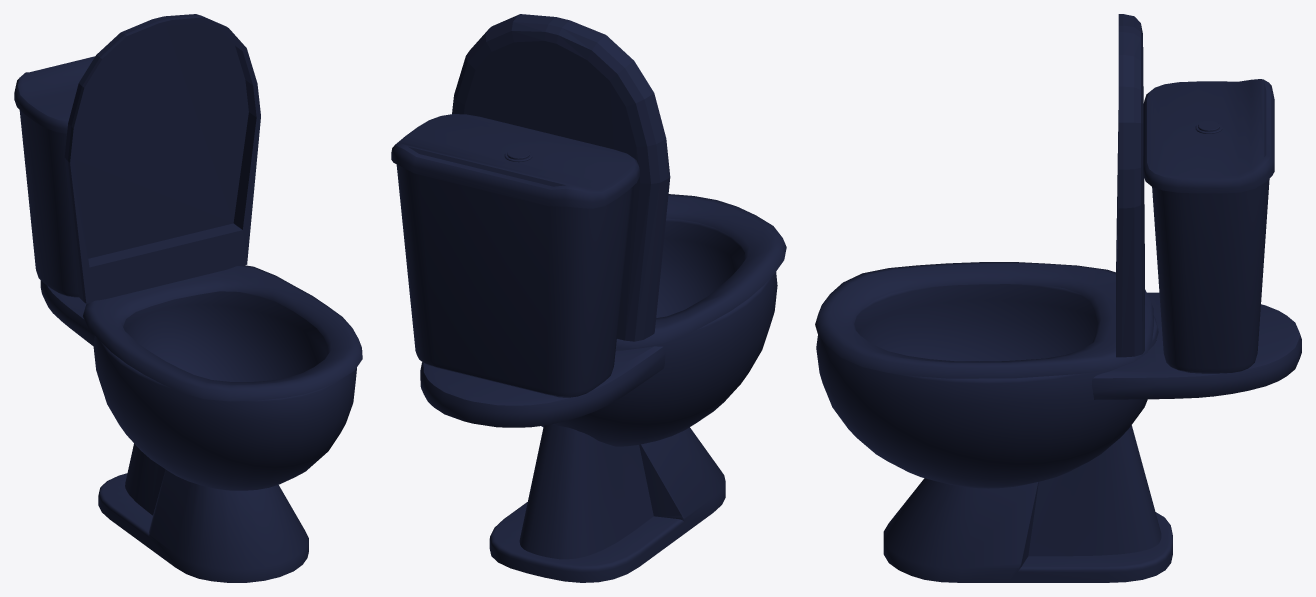
File: váter.FBX
The picture shows the model from 3 angles, left to right: view 1: azimuth 30°, elevation 25°; view 2: azimuth 150°, elevation 25°; view 3: azimuth 270°, elevation 25°; orthographic projection. The views are drawn at different scales.
Visible parts, largest first — view 1: váterPerse; view 2: váterPerse; view 3: váterPerse.
Part boxes in pixels (x1,y1,x2,y2): váterPerse: (14,14,362,582); váterPerse: (391,14,786,582); váterPerse: (815,14,1301,582).
Size of the model in its own units: 473 by 1023 by 865.
